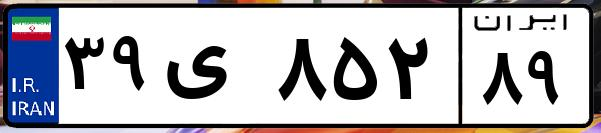2: (385, 28, 445, 110)
3: (57, 26, 110, 100)
5: (330, 28, 385, 110)
8: (270, 28, 330, 110), (475, 38, 525, 113)
9: (525, 38, 570, 115), (110, 28, 158, 98)
ی: (158, 20, 270, 120)
